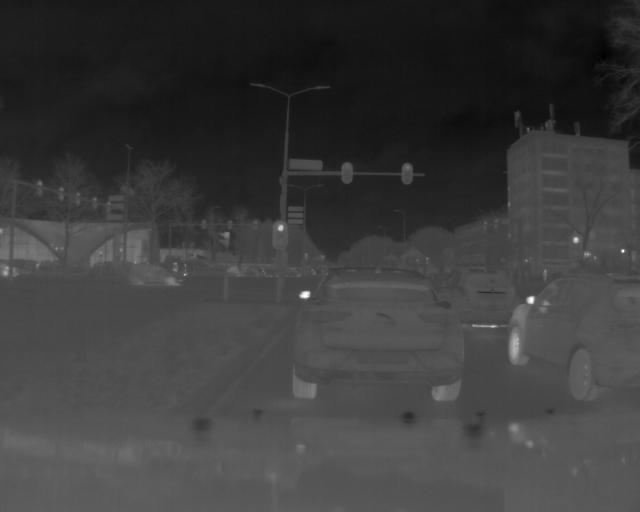car: (292, 267, 464, 403), (508, 271, 640, 406), (437, 266, 522, 329), (128, 262, 185, 287)
